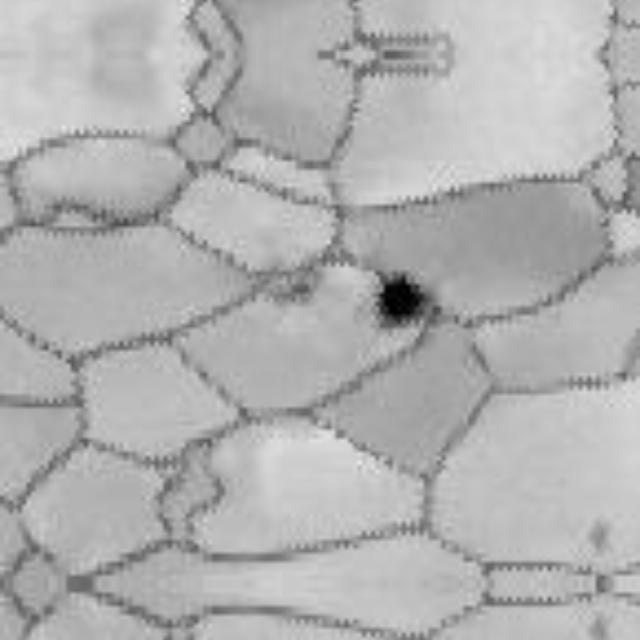good_void: (362, 268, 439, 337)
